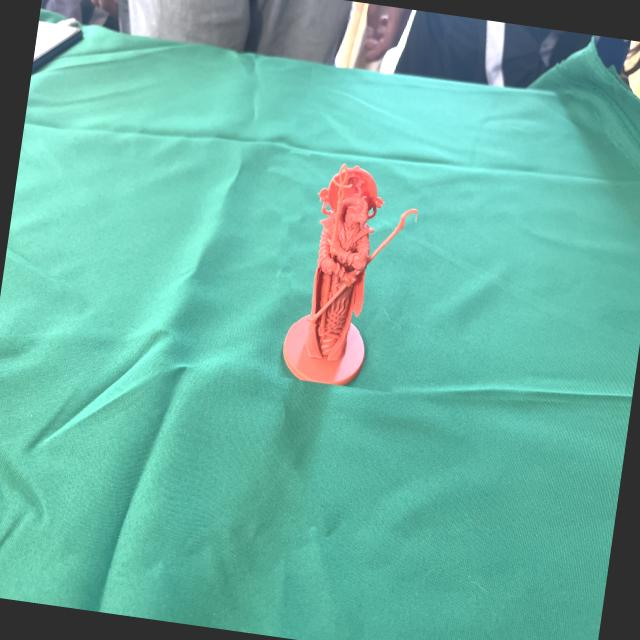amon: (278, 154, 424, 394)
